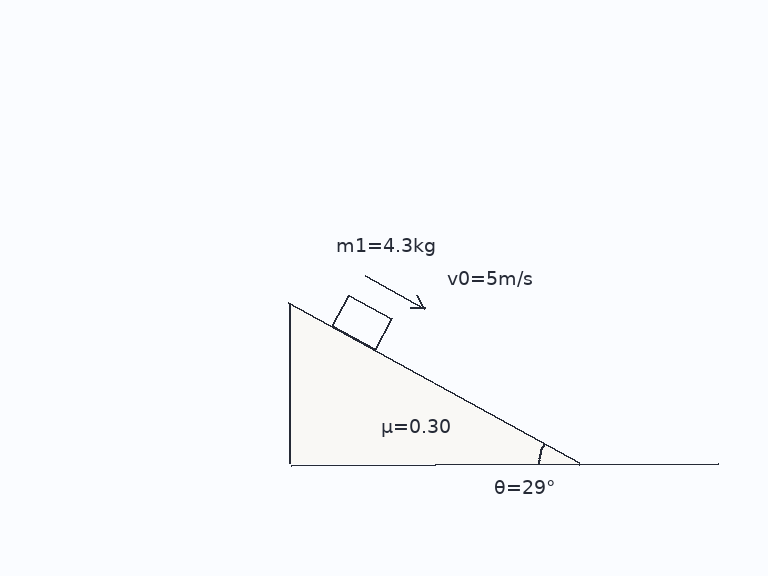block: (329, 293, 393, 351)
ramp: (288, 301, 581, 465)
